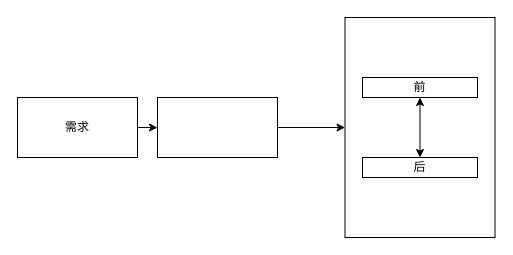
Image size: 513x255. Some labels were removed from this diagram. The shapes that lost their labels are listed below. From the top down, each one's box as (x1, y1, x2, y2) in pixels, then its label:
(156, 96, 278, 158): 设计
(344, 16, 495, 238): 开发
